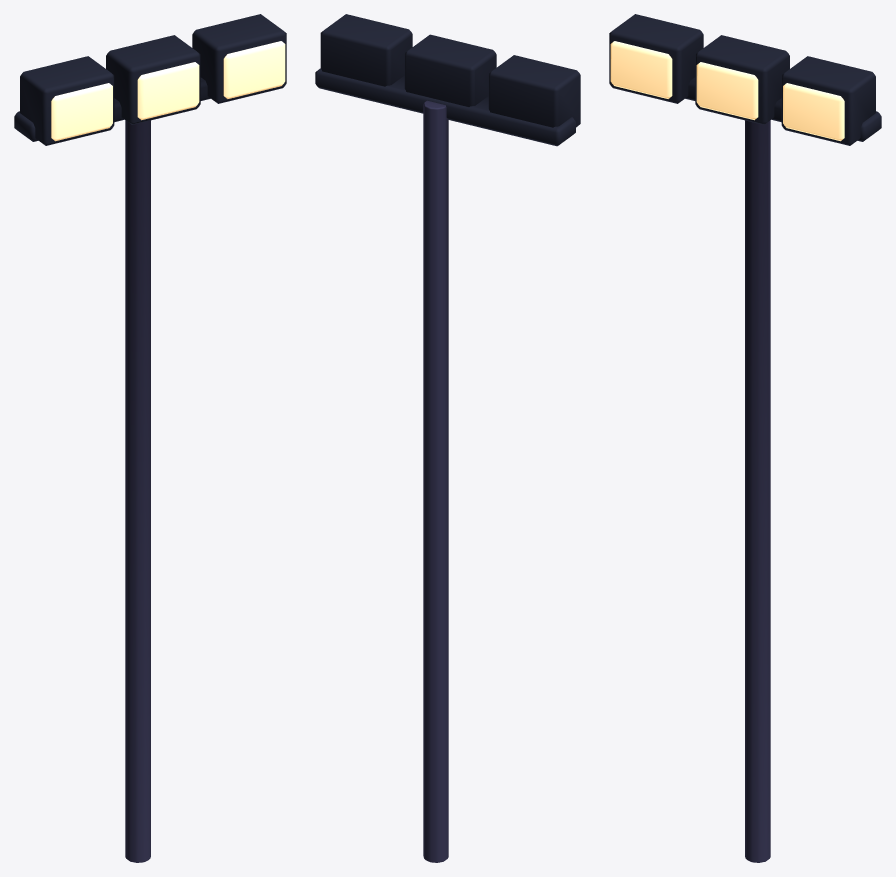
The model's file is speedway_night_floodlight.glb.
3 views of the same model, side by side, from view 1: azimuth 30°, elevation 25°; view 2: azimuth 150°, elevation 25°; view 3: azimuth 330°, elevation 25° (orthographic). The views are drawn at different scales.
Visible parts, largest first — view 1: Floodlight mast; view 2: Floodlight mast; view 3: Floodlight mast.
Part boxes in pixels (bbox=[...]): Floodlight mast: bbox=[14, 14, 286, 862]; Floodlight mast: bbox=[315, 14, 580, 862]; Floodlight mast: bbox=[609, 14, 881, 862].
Size of the model in its own units: 1.64 by 5.08 by 0.4382.
